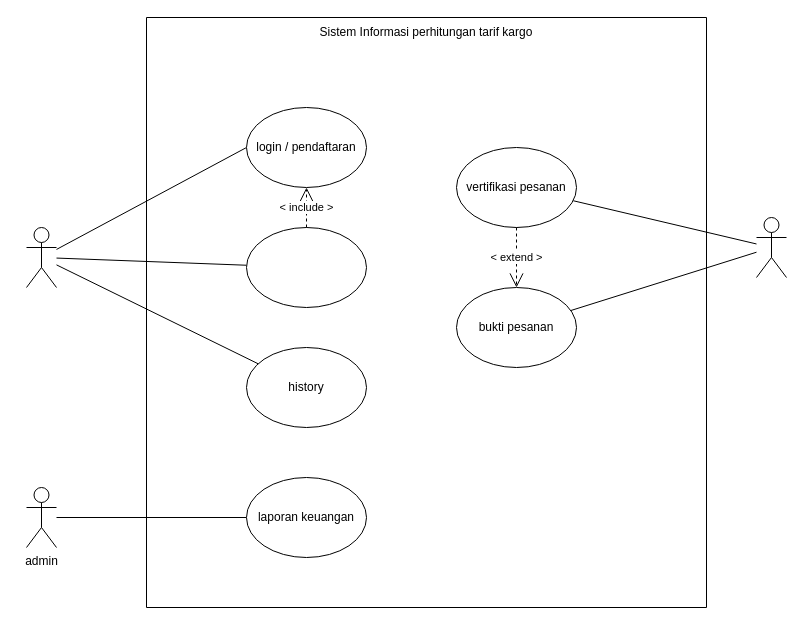
This 804x625 diagram has some shape labels left out. Each missing label, with the centre of its shape:
"buat pesanan" goes at [306,267].
"customer" goes at [41,257].
"staff" goes at [771,247].
